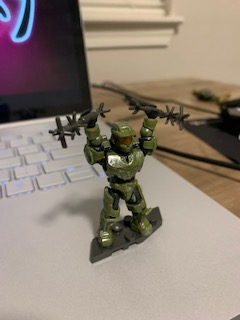chief: (79, 104, 161, 249)
spartan: (77, 102, 159, 247)
up: (79, 104, 160, 182)
